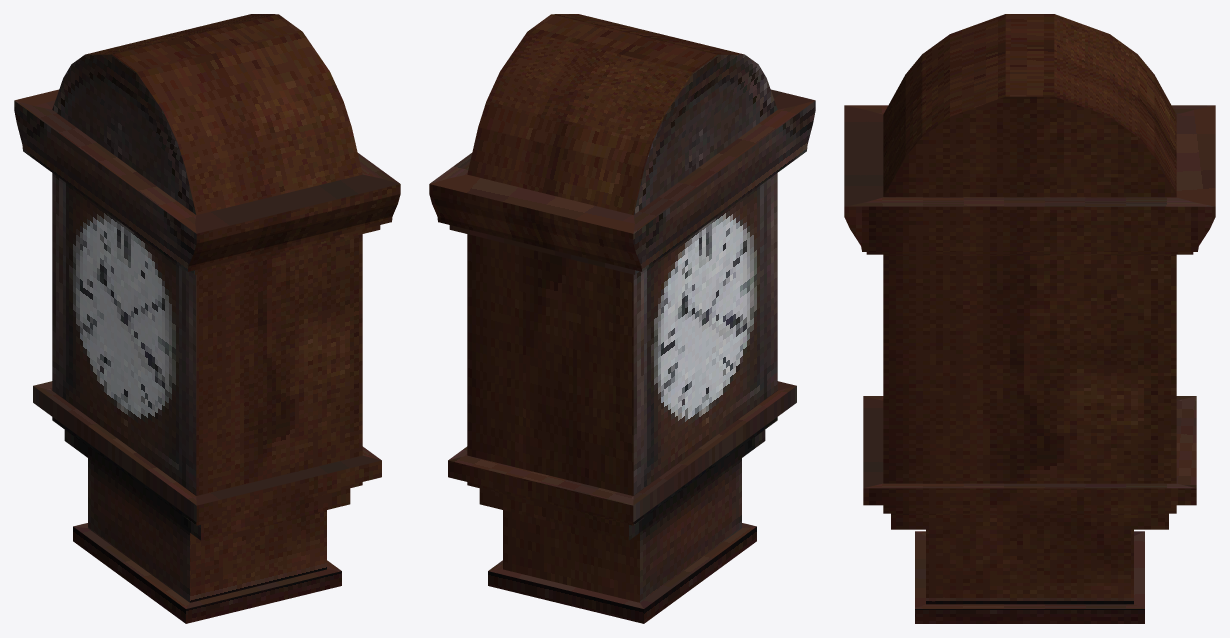
The model's file is clockwall_psx.glb.
3 renders of one model, left to right at view 1: azimuth 30°, elevation 25°; view 2: azimuth 150°, elevation 25°; view 3: azimuth 270°, elevation 25°, orthographic.
Parts seen in each view (by area): view 1: cuboid_0; view 2: cuboid_0; view 3: cuboid_0.
Boxes of the visible parts, x1,y1,x2,y2 form: cuboid_0: (14, 14, 400, 623); cuboid_0: (429, 14, 815, 623); cuboid_0: (844, 14, 1215, 623).
Size of the model in its own units: 0.675 by 1.64 by 1.04.
1 material, 1 textured.
